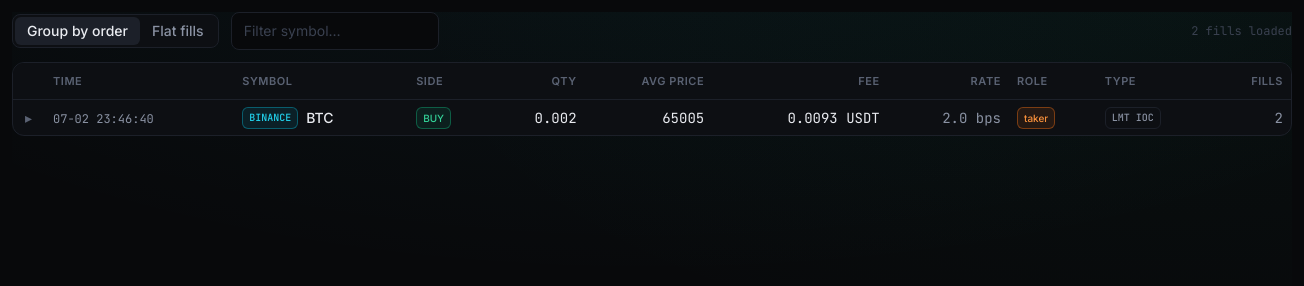
it: TradesPanel (grouped by order, default ON) › expands a group to its fill rows with per-fill bps rates
Expected: the text "0.0093 USDT" is shown, [787,108,880,126]
Click the button named "toggle details" at [28, 118], box [21,108,36,128]
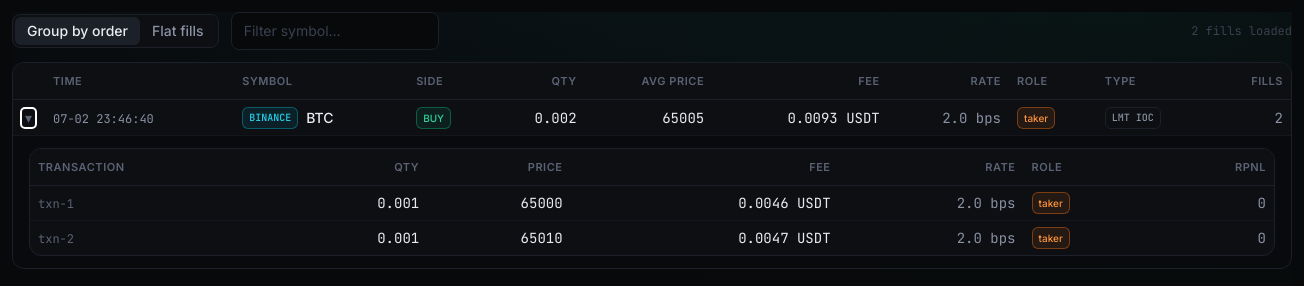
Now the text "txn-1" is shown, box [38,196,74,212]
Now the text "txn-2" is shown, box [38,231,74,247]
Now the text "2.0 bps" is shown 3 times, box [942,108,1001,126]; [957,194,1016,212]; [957,229,1016,247]
